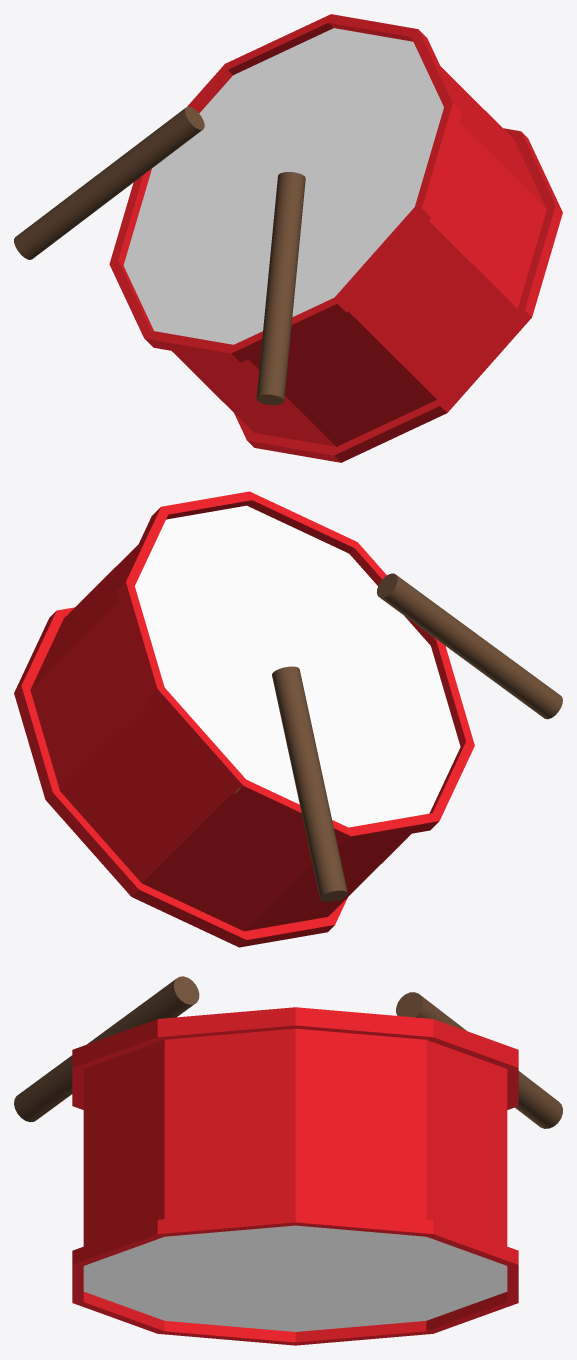
Rendered from SnareDrum_Final.FBX.
3 views of the same model, one above another, from view 1: azimuth 30°, elevation 25°; view 2: azimuth 150°, elevation 25°; view 3: azimuth 270°, elevation 25° (orthographic). The views are drawn at different scales.
Parts seen in each view (by area): view 1: A_SD_Final; view 2: A_SD_Final; view 3: A_SD_Final.
Boxes of the visible parts, x1,y1,x2,y2 form: A_SD_Final: (14, 14, 562, 462); A_SD_Final: (14, 491, 562, 947); A_SD_Final: (14, 976, 562, 1345).
Bounding box in the file's own units: 66.21 × 59.51 × 69.04.
Materials: 1 (1 with a texture image).
